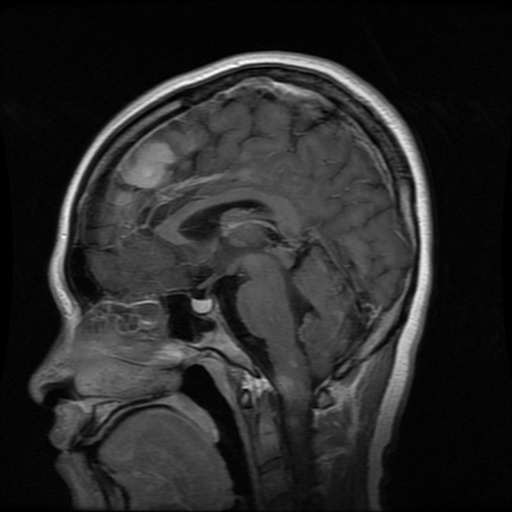meningioma: (120, 139, 173, 189)
